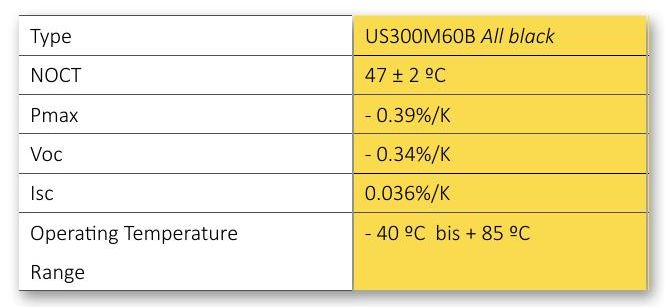table: (10, 9, 655, 296)
table column: (26, 13, 349, 293), (358, 14, 641, 292)
table row: (21, 215, 649, 288), (20, 136, 645, 171), (21, 18, 645, 53), (21, 97, 645, 131), (22, 58, 645, 92), (21, 177, 647, 209)
